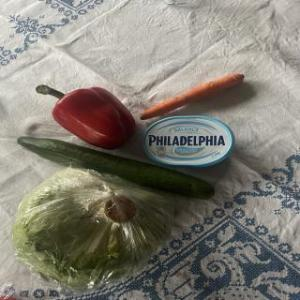bell_pepper: (33, 72, 133, 150)
cabbage: (7, 164, 179, 294)
cucumber: (15, 129, 220, 209), (140, 70, 256, 123)
